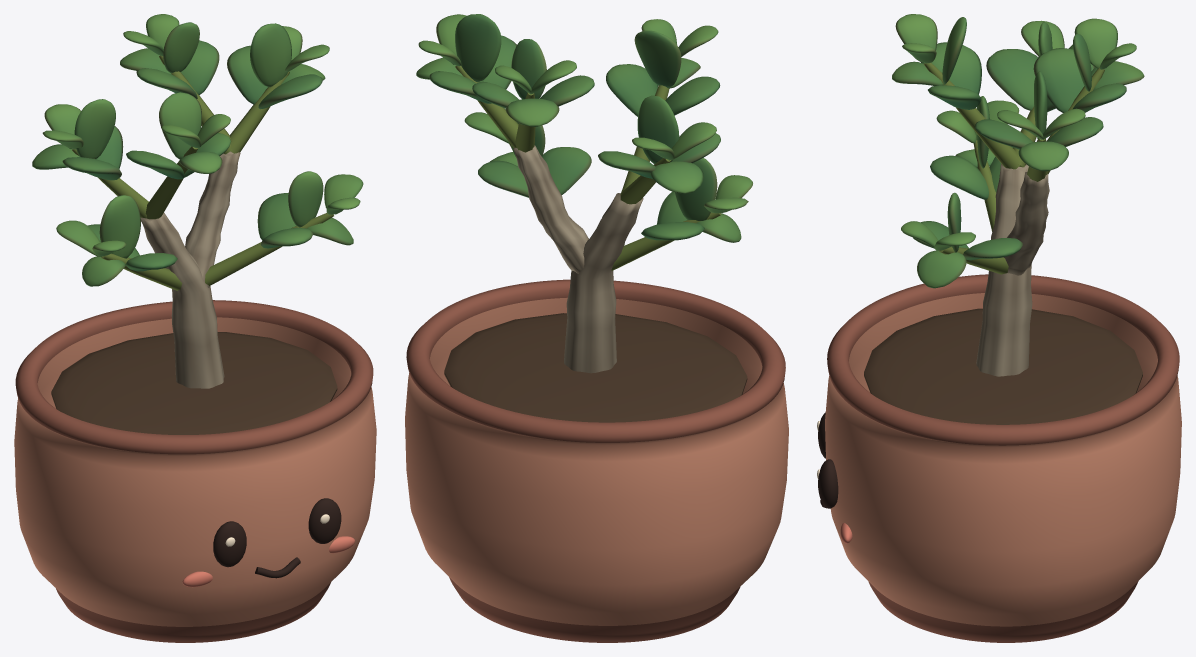
File: jade-plant-v1.glb
3 renders of one model, left to right at view 1: azimuth 30°, elevation 25°; view 2: azimuth 150°, elevation 25°; view 3: azimuth 270°, elevation 25°, orthographic. The views are drawn at different scales.
Parts seen in each view (by area): view 1: Wheel-thrown ceramic, Foliage draw mesh, Soil, Eye, Eye.001; view 2: Wheel-thrown ceramic, Foliage draw mesh, Soil; view 3: Wheel-thrown ceramic, Foliage draw mesh, Soil, Eye.001.
Boxes of the visible parts, x1,y1,x2,y2 form: Wheel-thrown ceramic: (14, 300, 376, 642); Foliage draw mesh: (32, 14, 363, 388); Soil: (51, 332, 337, 434); Eye: (213, 521, 246, 567); Eye.001: (308, 498, 341, 543); Wheel-thrown ceramic: (405, 279, 788, 642); Foliage draw mesh: (416, 14, 752, 373); Soil: (444, 313, 747, 422); Wheel-thrown ceramic: (825, 274, 1181, 642); Foliage draw mesh: (892, 14, 1144, 376); Soil: (864, 308, 1142, 424); Eye.001: (818, 459, 838, 508).
Bounding box in the file's own units: 1.62 × 2.61 × 1.53.
